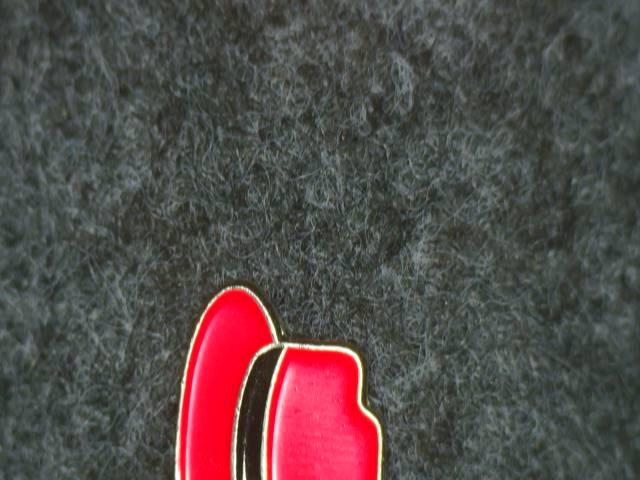Red-Hat: (154, 247, 409, 480)
